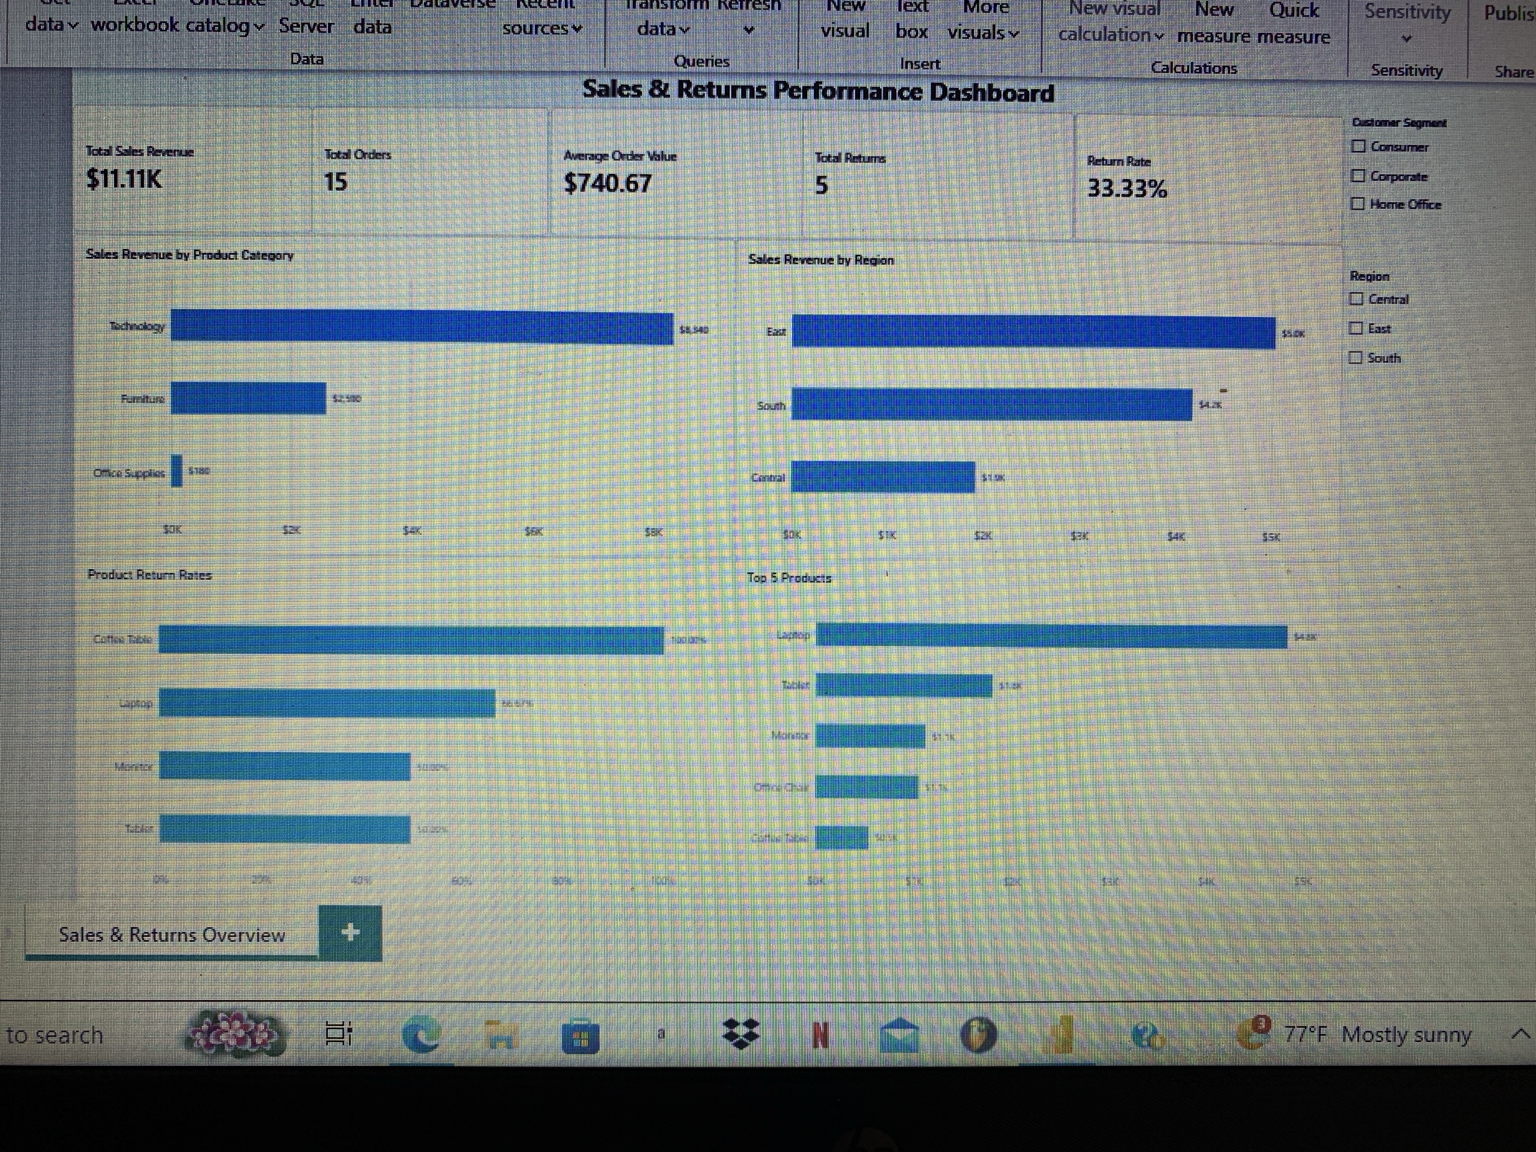

Layout of this report page (visuals, bound fields, positions):
{"tool":"powerbi","page":{"name":"Sales & Returns Overview","canvas":[1920,1080],"ordinal":0},"visuals":[{"type":"cardVisual","fields":{"Data":["orders.Total Sales Revenue"]},"box":[0,46.8,306.8,165.2],"z":0},{"type":"cardVisual","fields":{"Data":["orders.Total Orders"]},"box":[306.8,47.2,306.8,165.2],"z":2},{"type":"cardVisual","fields":{"Data":["orders.Average Order Value"]},"box":[613.5,47.2,336.8,165.2],"z":3},{"type":"clusteredBarChart","title":"Sales Revenue by Product Category","fields":{"Category":["products.category"],"Y":["orders.Total Sales Revenue"]},"box":[0,212.6,852.5,412.4],"z":4},{"type":"clusteredBarChart","title":"Sales Revenue by Region","fields":{"Category":["orders.region"],"Y":["orders.Total Sales Revenue"]},"box":[852.5,212.6,791.6,414],"z":5},{"type":"clusteredBarChart","title":"Top 5 Products","fields":{"Category":["products.product_name"],"Y":["orders.Total Sales Revenue"]},"box":[852.5,625,793,455],"z":6},{"type":"cardVisual","fields":{"Data":["returns.Total Returns"]},"box":[937.5,47.2,354,165.2],"z":7},{"type":"cardVisual","fields":{"Data":["returns.Return Rate"]},"box":[1291.4,47.2,354,165.2],"z":8},{"type":"clusteredBarChart","title":"Product Return Rates","fields":{"Category":["products.product_name"],"Y":["returns.Return Rate"]},"box":[0,625,852.5,455],"z":9},{"type":"slicer","title":"Customer Segment","fields":{"Values":["customers.customer_segment"]},"box":[1645.4,47.2,274.6,195.2],"z":10},{"type":"slicer","title":"Region","fields":{"Values":["orders.region"]},"box":[1645.5,242.4,274.3,191.3],"z":11},{"type":"textbox","box":[0,0,1920,75.1],"z":13}]}

Visuals, with their boxes on the page's 1920x1080 design canvas (x1, y1, x2, y2). These are canvas units, not pixel positions in the 1536x1152 screenshot, which may show the page scaled, cropped or inside an application window:
cardVisual - orders.Total Sales Revenue: bbox(0, 47, 307, 212)
cardVisual - orders.Total Orders: bbox(307, 47, 614, 212)
cardVisual - orders.Average Order Value: bbox(614, 47, 950, 212)
"Sales Revenue by Product Category" clusteredBarChart: bbox(0, 213, 852, 625)
"Sales Revenue by Region" clusteredBarChart: bbox(852, 213, 1644, 627)
"Top 5 Products" clusteredBarChart: bbox(852, 625, 1646, 1080)
cardVisual - returns.Total Returns: bbox(938, 47, 1292, 212)
cardVisual - returns.Return Rate: bbox(1291, 47, 1645, 212)
"Product Return Rates" clusteredBarChart: bbox(0, 625, 852, 1080)
"Customer Segment" slicer: bbox(1645, 47, 1920, 242)
"Region" slicer: bbox(1646, 242, 1920, 434)
textbox: bbox(0, 0, 1920, 75)
